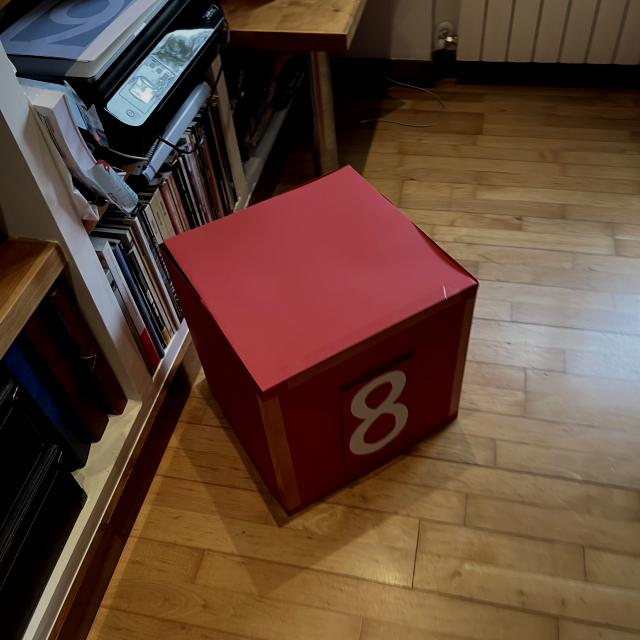box: (157, 161, 481, 517)
